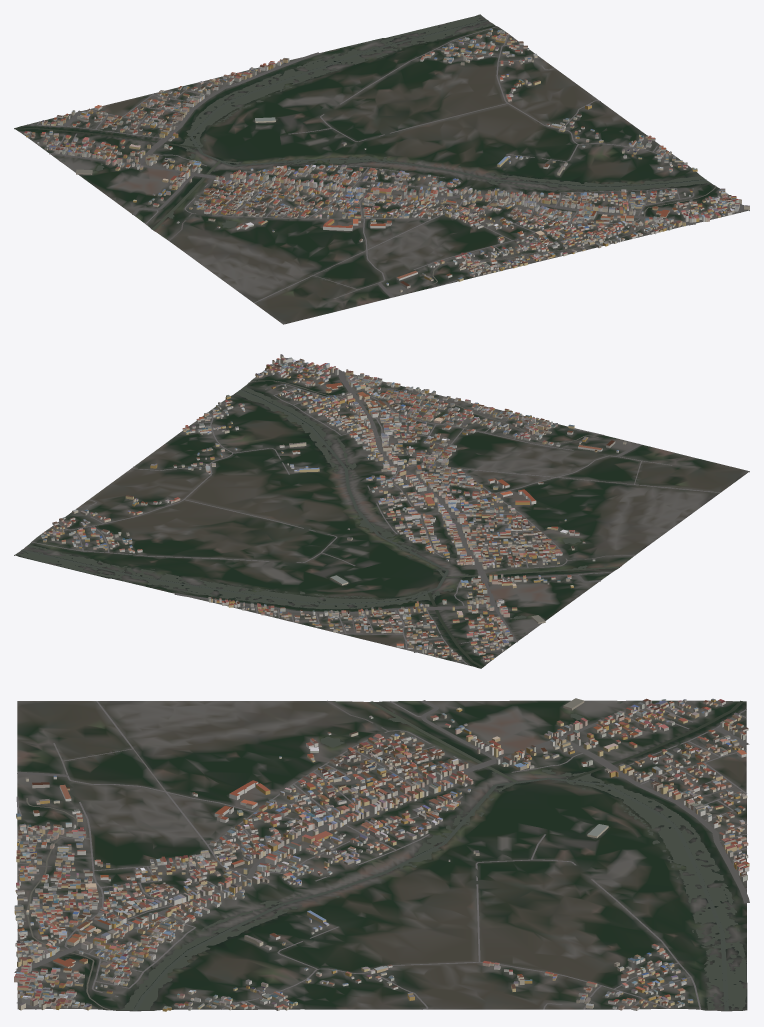
3 views of the same model, one above another, from view 1: azimuth 30°, elevation 25°; view 2: azimuth 150°, elevation 25°; view 3: azimuth 270°, elevation 25° (orthographic). The views are drawn at different scales.
Parts seen in each view (by area): view 1: ground, buildings, water, roads; view 2: ground, buildings, water, roads; view 3: ground, buildings, water, roads.
Part boxes in pixels (left/top/right/bottom): ground: left=14, top=14, right=749, bottom=324; buildings: left=24, top=28, right=749, bottom=292; water: left=15, top=16, right=715, bottom=285; roads: left=27, top=26, right=743, bottom=303; ground: left=14, top=357, right=749, bottom=668; buildings: left=41, top=354, right=626, bottom=661; water: left=16, top=380, right=619, bottom=667; roads: left=31, top=359, right=720, bottom=665; ground: left=17, top=700, right=747, bottom=1011; buildings: left=14, top=698, right=749, bottom=1011; water: left=26, top=700, right=746, bottom=1011; roads: left=14, top=700, right=749, bottom=1009.
Size of the model in its own units: 1415 by 25.11 by 1414.
